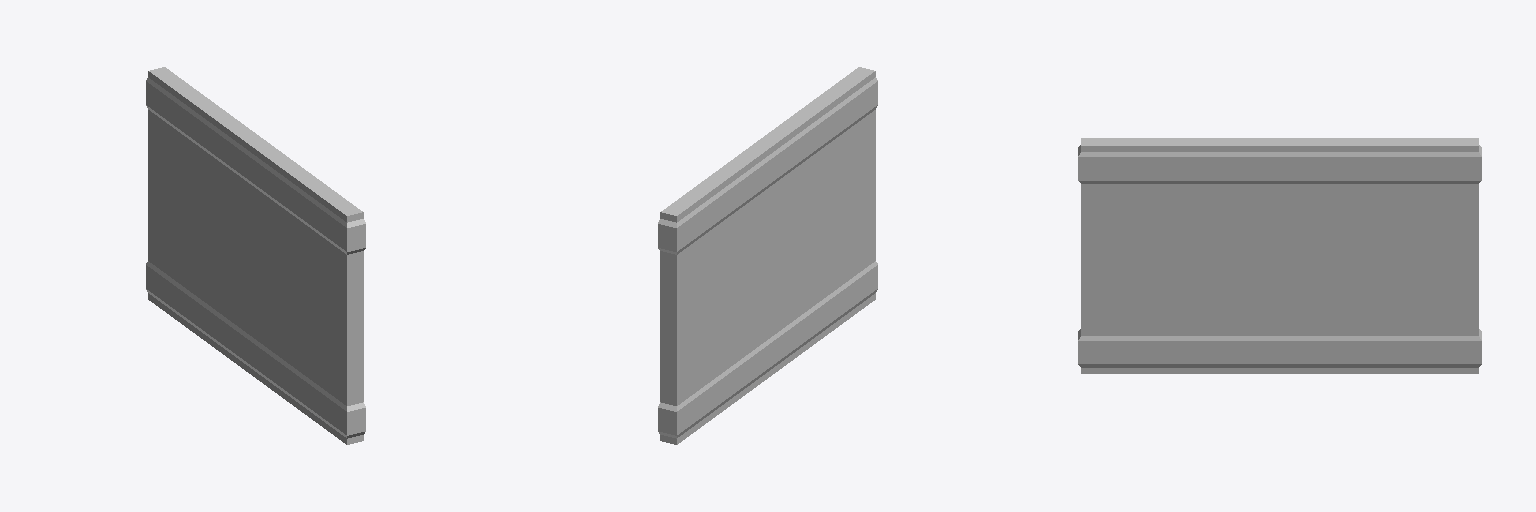
File: running_wall.obj
3 renders of one model, left to right at view 1: azimuth 30°, elevation 25°; view 2: azimuth 150°, elevation 25°; view 3: azimuth 270°, elevation 25°, orthographic.
Visible parts, largest first — view 1: Cube; view 2: Cube; view 3: Cube.
Part boxes in pixels (x1,y1,x2,y2): Cube: (146,67,365,444); Cube: (658,67,877,444); Cube: (1078,138,1481,373).
Bounding box in the file's own units: 35.05 × 400 × 640.